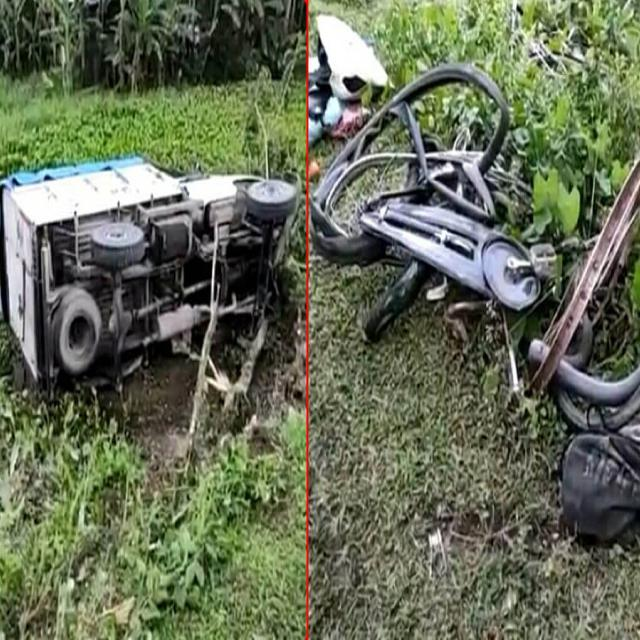accident: (310, 64, 640, 542), (0, 158, 292, 386)
